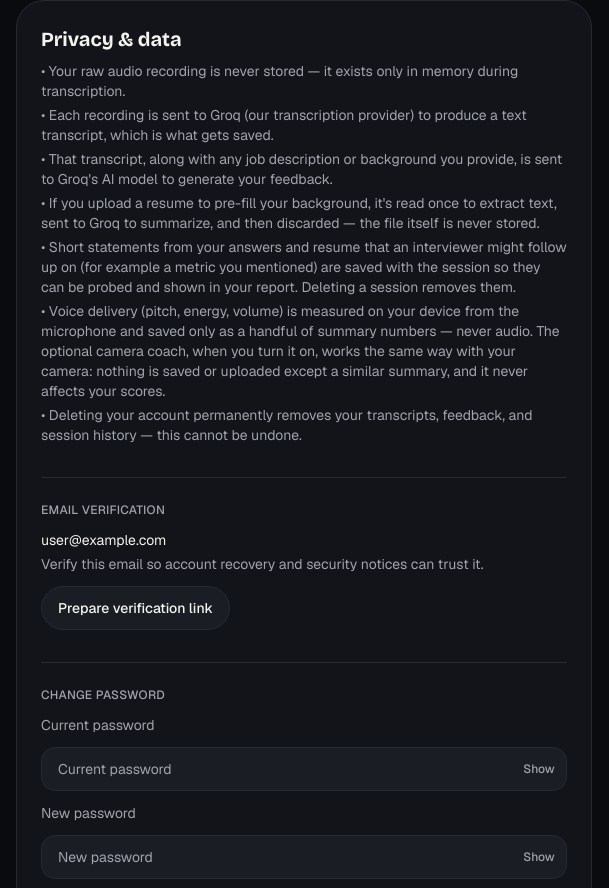
it: AccountPrivacyPanel › shows an error message when the password change fails
The width and height of the screenshot is (609, 888).
Type "wrong-password" into the password field with placeholder "Current password" at (304, 769), box left=41, top=747, right=567, bottom=791
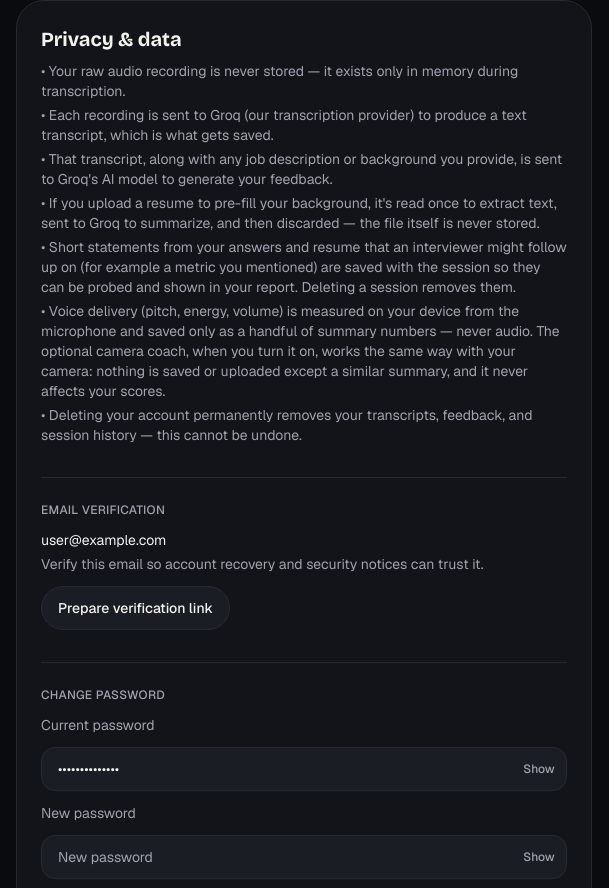
Type "a-new-password-123" into the password field with placeholder "New password" at (304, 857), box left=41, top=835, right=567, bottom=879
(page scrolled)
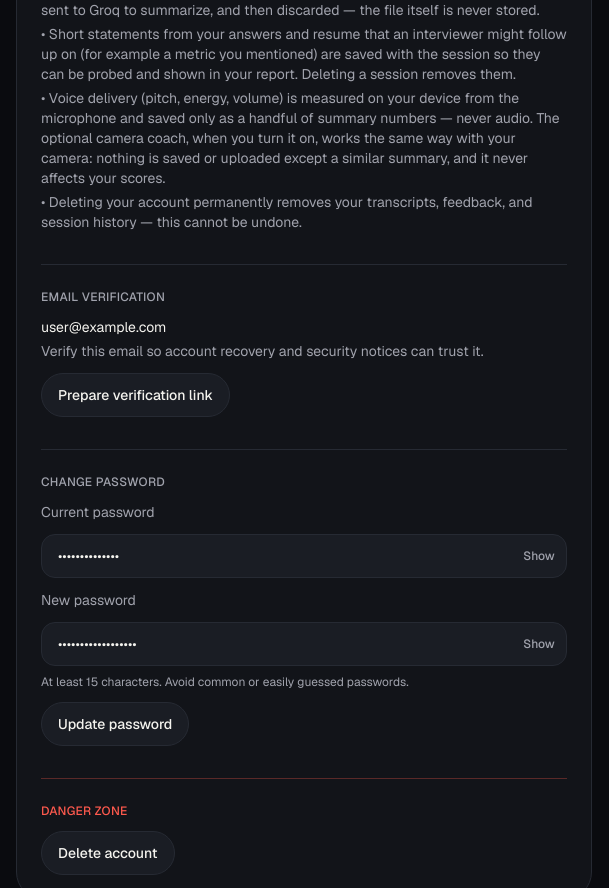
Click the button "Update password" at (115, 724), box left=41, top=702, right=189, bottom=746
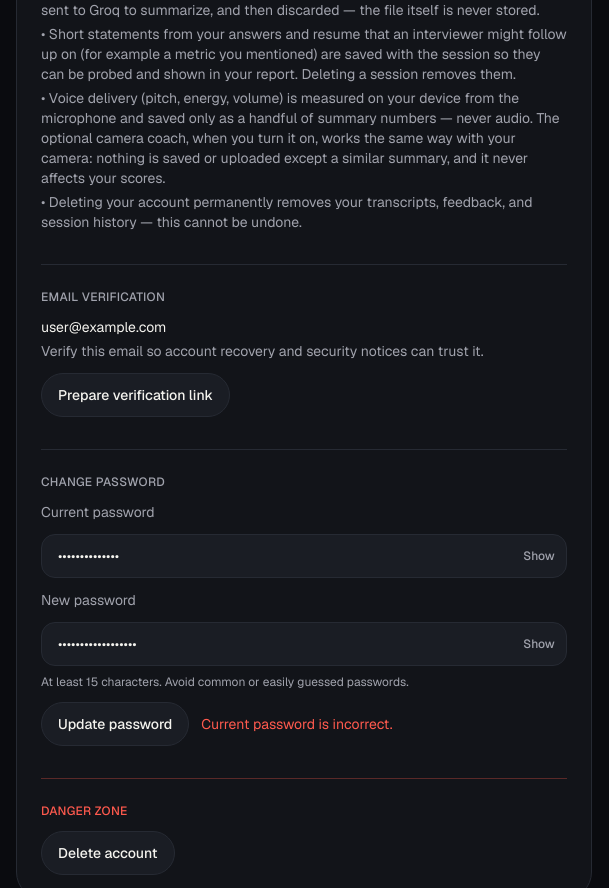
Expected: the text "Current password is incorrect." is shown, left=201, top=714, right=393, bottom=734
